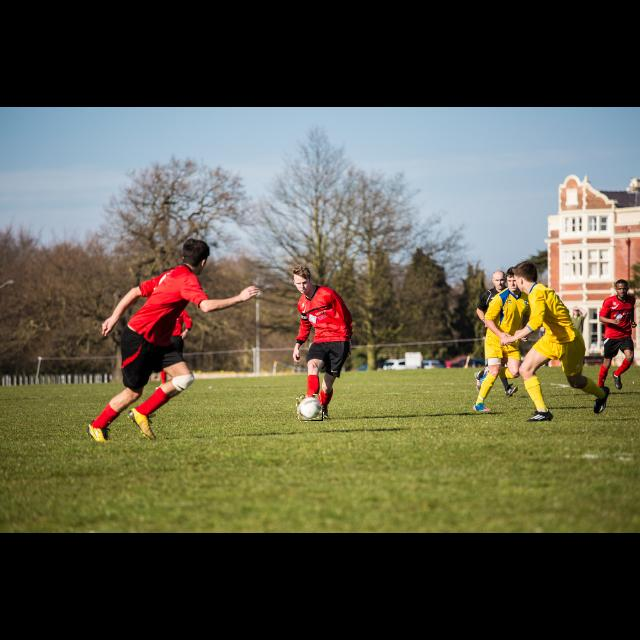Football: (297, 395, 323, 421)
